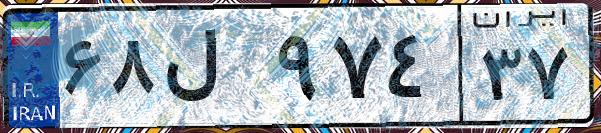3: (475, 38, 525, 113)
4: (385, 28, 445, 110)
6: (57, 26, 110, 100)
7: (330, 28, 385, 110), (525, 38, 570, 115)
8: (110, 28, 158, 98)
9: (270, 28, 330, 110)
ل: (158, 20, 270, 120)
